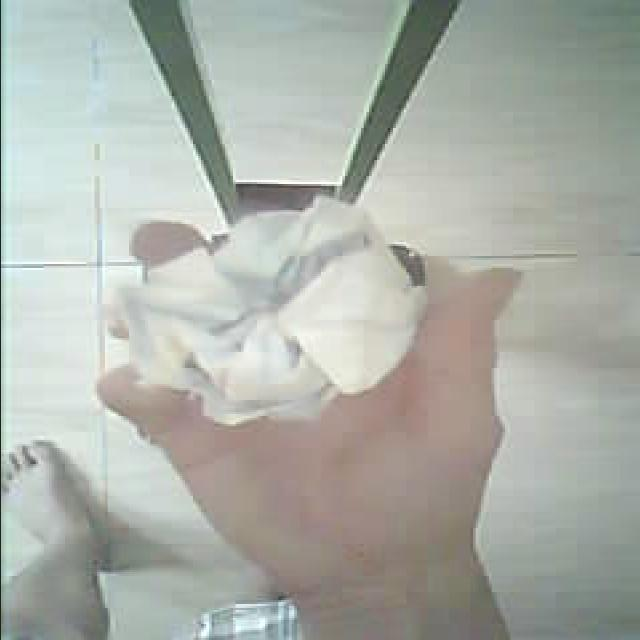Paper: (98, 219, 426, 409)
